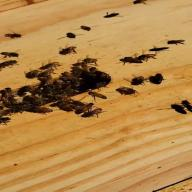Bee: (73, 104, 105, 121), (172, 95, 192, 115), (131, 50, 159, 63), (52, 44, 80, 56), (161, 38, 192, 47), (1, 48, 22, 60), (90, 88, 111, 100), (74, 22, 94, 32)
